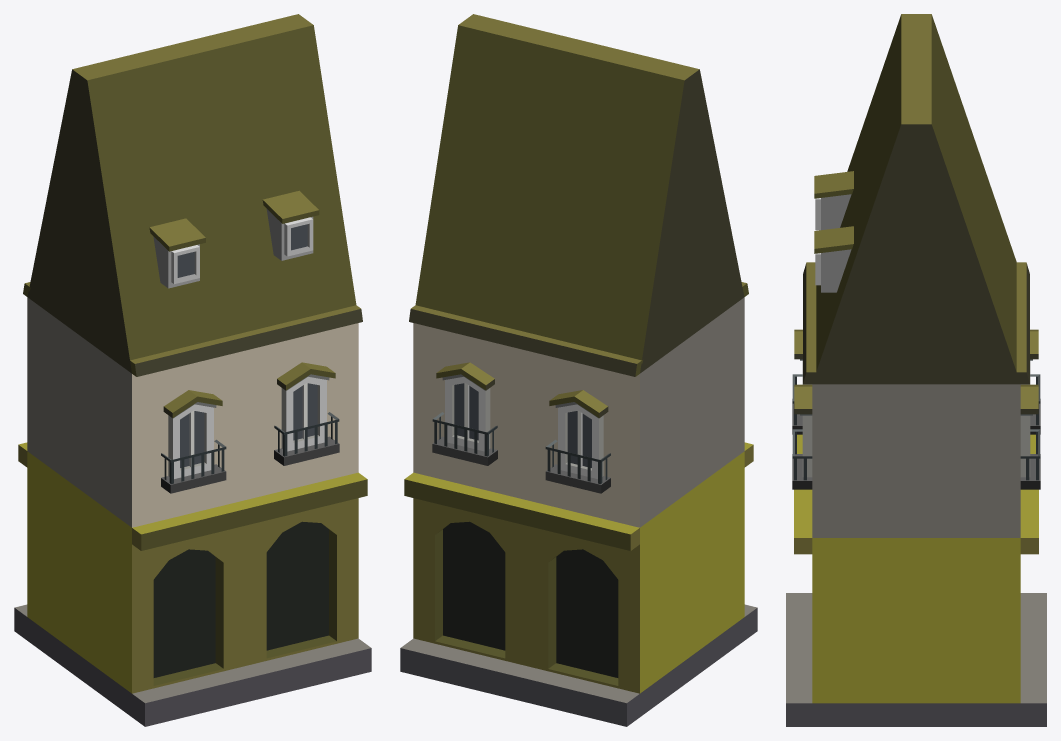
File: TB_CITY_BD_Olive_Line.FBX
The picture shows the model from 3 angles, left to right: view 1: azimuth 30°, elevation 25°; view 2: azimuth 150°, elevation 25°; view 3: azimuth 270°, elevation 25°; orthographic projection.
Visible parts, largest first — view 1: TB_CITY_BD_Olive_Line; view 2: TB_CITY_BD_Olive_Line; view 3: TB_CITY_BD_Olive_Line.
Boxes of the visible parts, bbox=[...] form: TB_CITY_BD_Olive_Line: bbox=[14, 14, 371, 726]; TB_CITY_BD_Olive_Line: bbox=[400, 14, 757, 726]; TB_CITY_BD_Olive_Line: bbox=[786, 14, 1046, 726].
Size of the model in its own units: 7.99 by 20.37 by 7.99.
